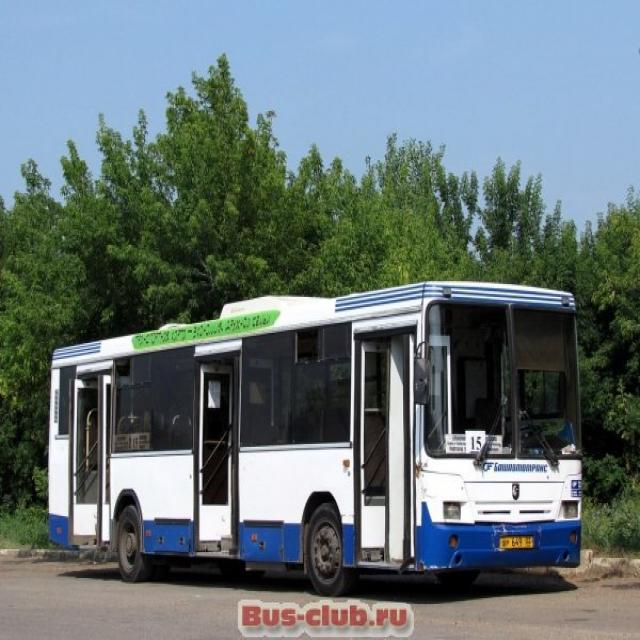bus: (37, 274, 592, 601)
